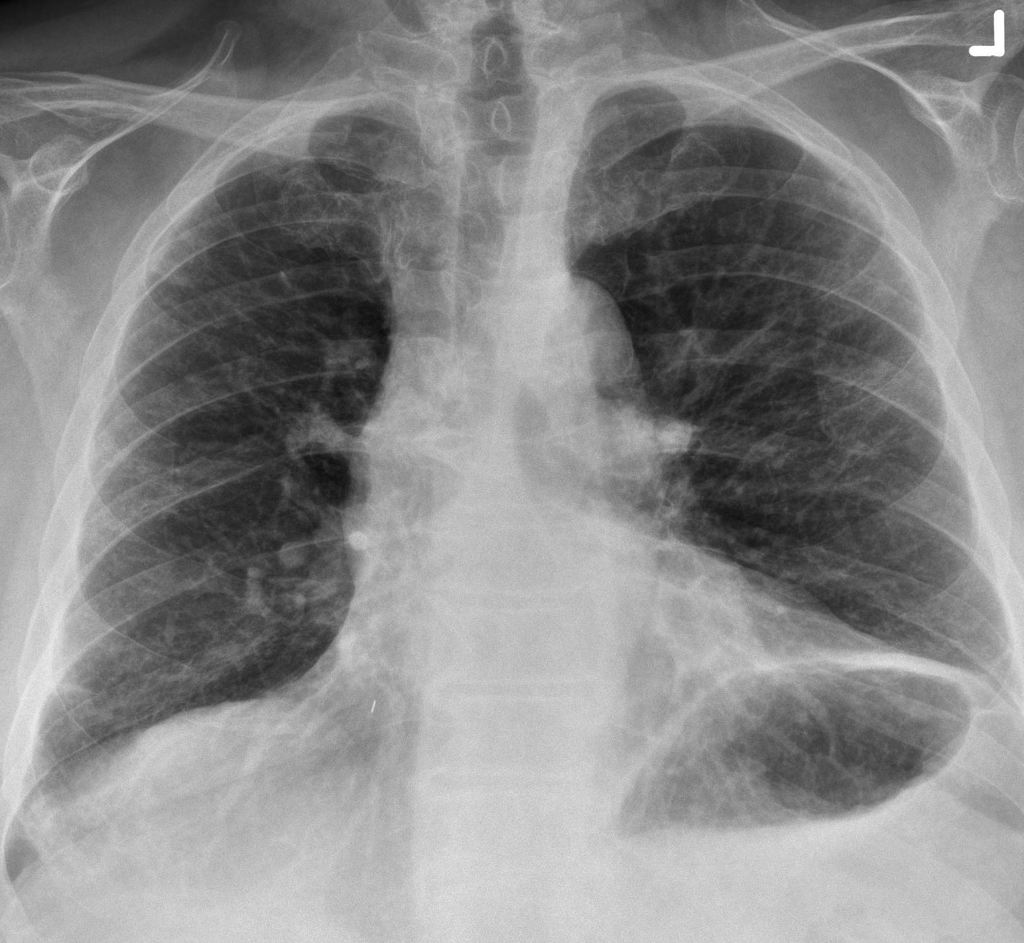cancer: (10, 185, 435, 838), (574, 168, 954, 778)
